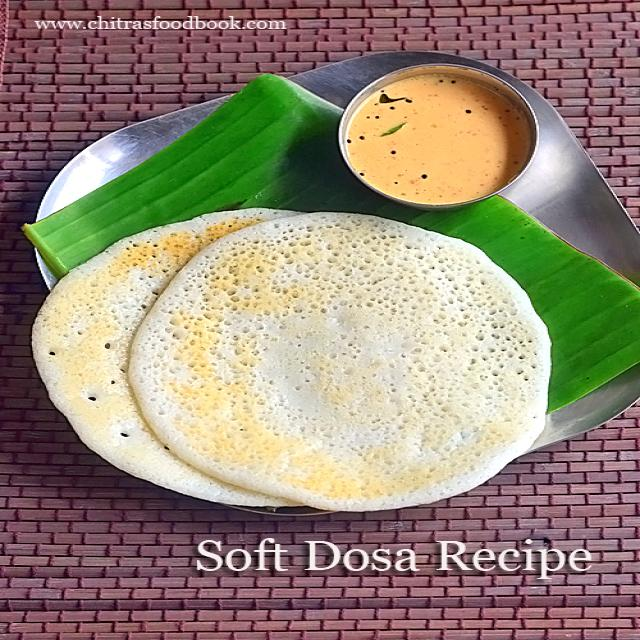DOSA: (21, 206, 556, 521)
